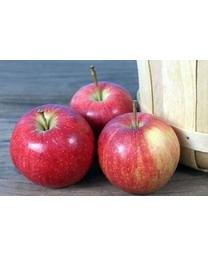apple: (8, 103, 94, 188), (96, 111, 179, 194), (69, 65, 133, 130)
